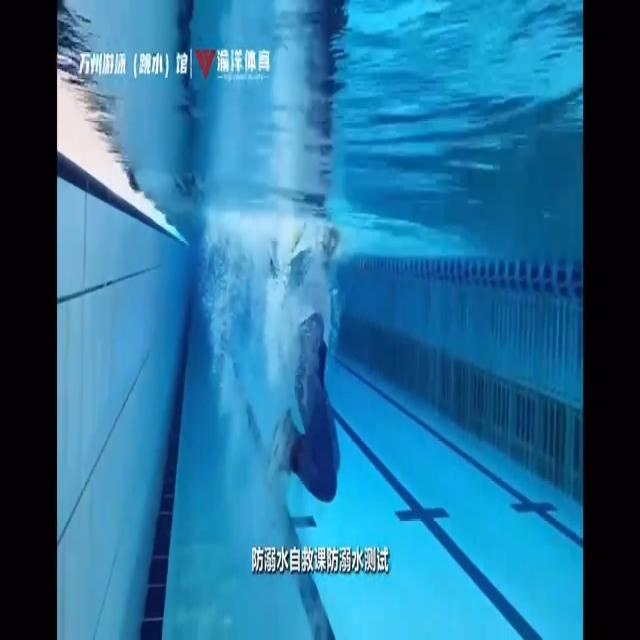Drowning: (268, 224, 345, 503)
